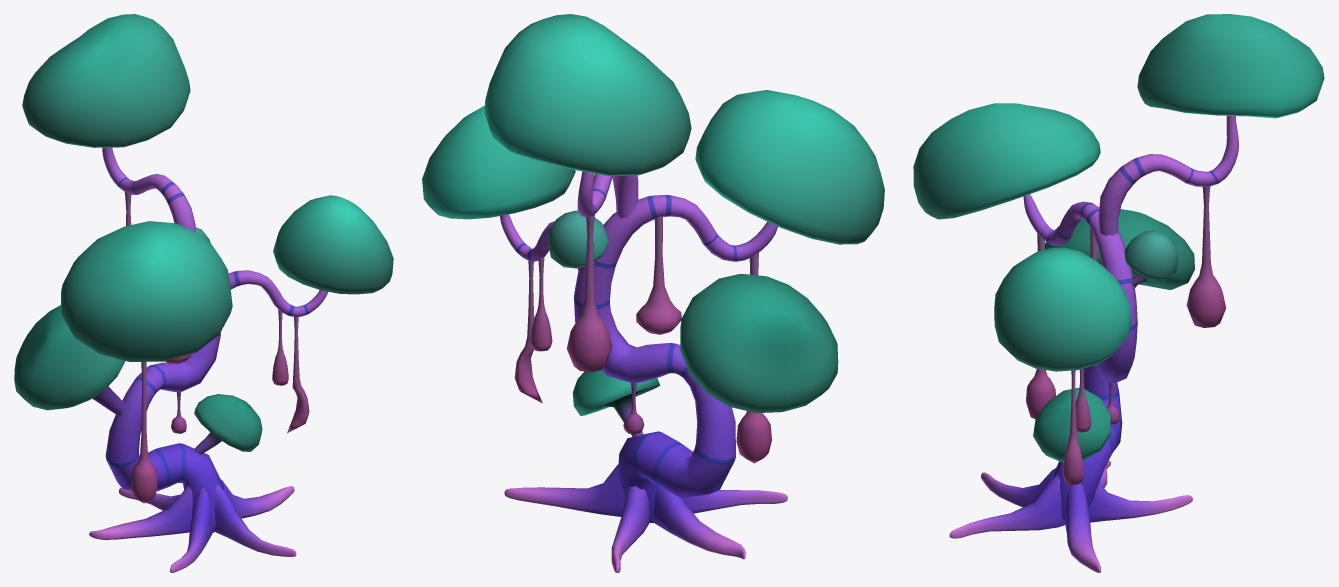
The model's file is Plant_tree_02.fbx.
The picture shows the model from 3 angles, left to right: view 1: azimuth 30°, elevation 25°; view 2: azimuth 150°, elevation 25°; view 3: azimuth 270°, elevation 25°; orthographic projection. The views are drawn at different scales.
Visible parts, largest first — view 1: plant_tree_02; view 2: plant_tree_02; view 3: plant_tree_02.
Part boxes in pixels (x1=…): plant_tree_02: x1=14, y1=14, x2=393, y2=572; plant_tree_02: x1=422, y1=14, x2=884, y2=572; plant_tree_02: x1=913, y1=14, x2=1324, y2=572.
Bounding box in the file's own units: 373 × 471 × 350.
